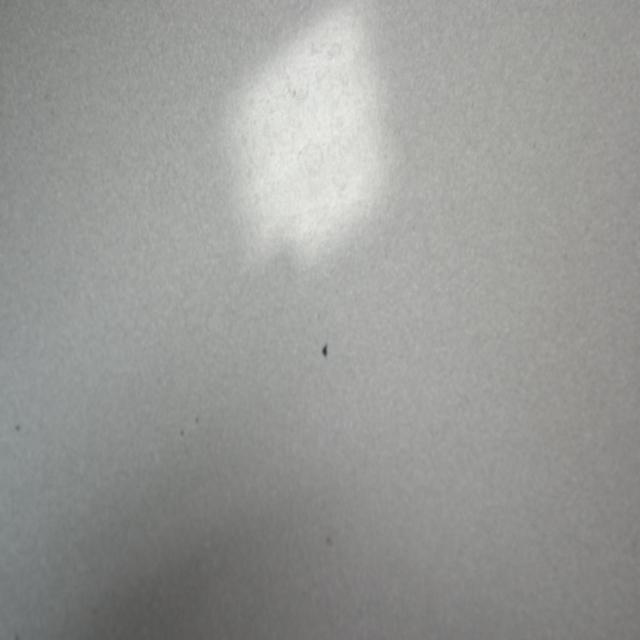dirt: (324, 532, 336, 548), (191, 413, 203, 426), (13, 423, 24, 437), (321, 344, 330, 361), (178, 425, 183, 439)
water marks: (232, 110, 272, 190), (284, 129, 328, 189), (280, 64, 313, 112)
